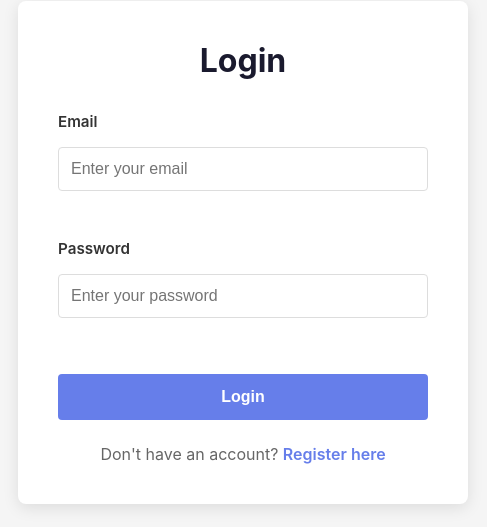
Test: LoginForm › disables form during submission
Type "test@example.com" into the field labelled "Email" at (243, 169), box [58,147,428,191]
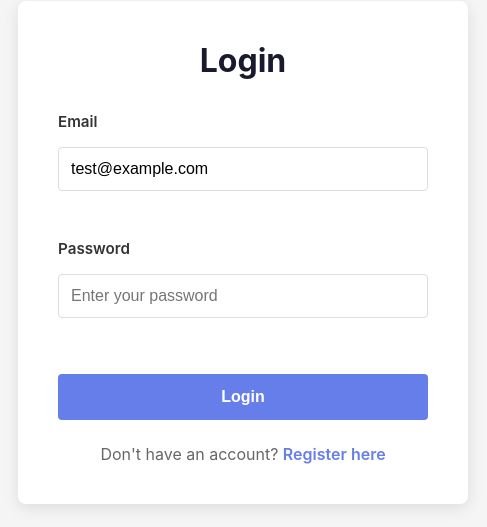
Type "Password123" into the password field labelled "Password" at (243, 296), box [58,274,428,318]
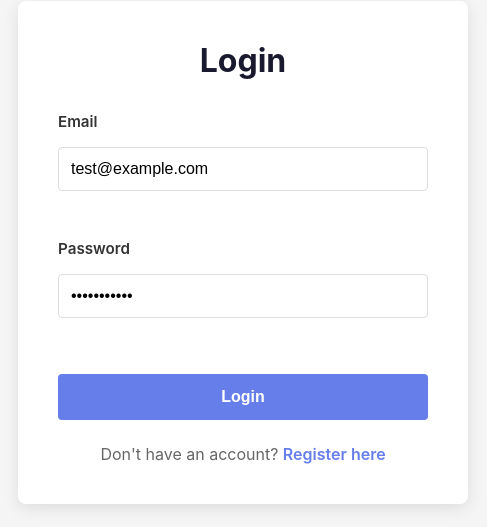
Click the button "Login" at (243, 397), box [58,374,428,420]
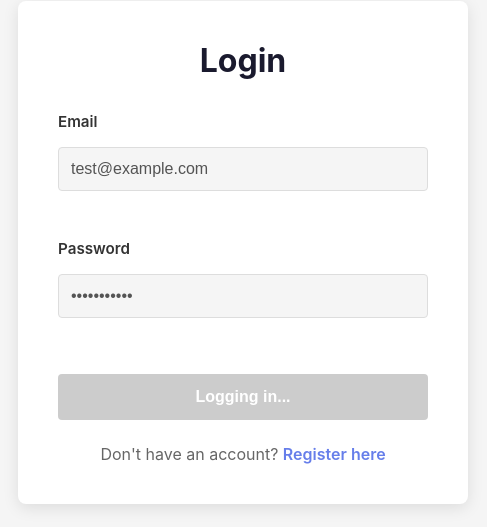
Result: the button named "login" reads "Logging in..." at [58,374,428,420]
Result: the button named "login" is disabled at [58,374,428,420]
